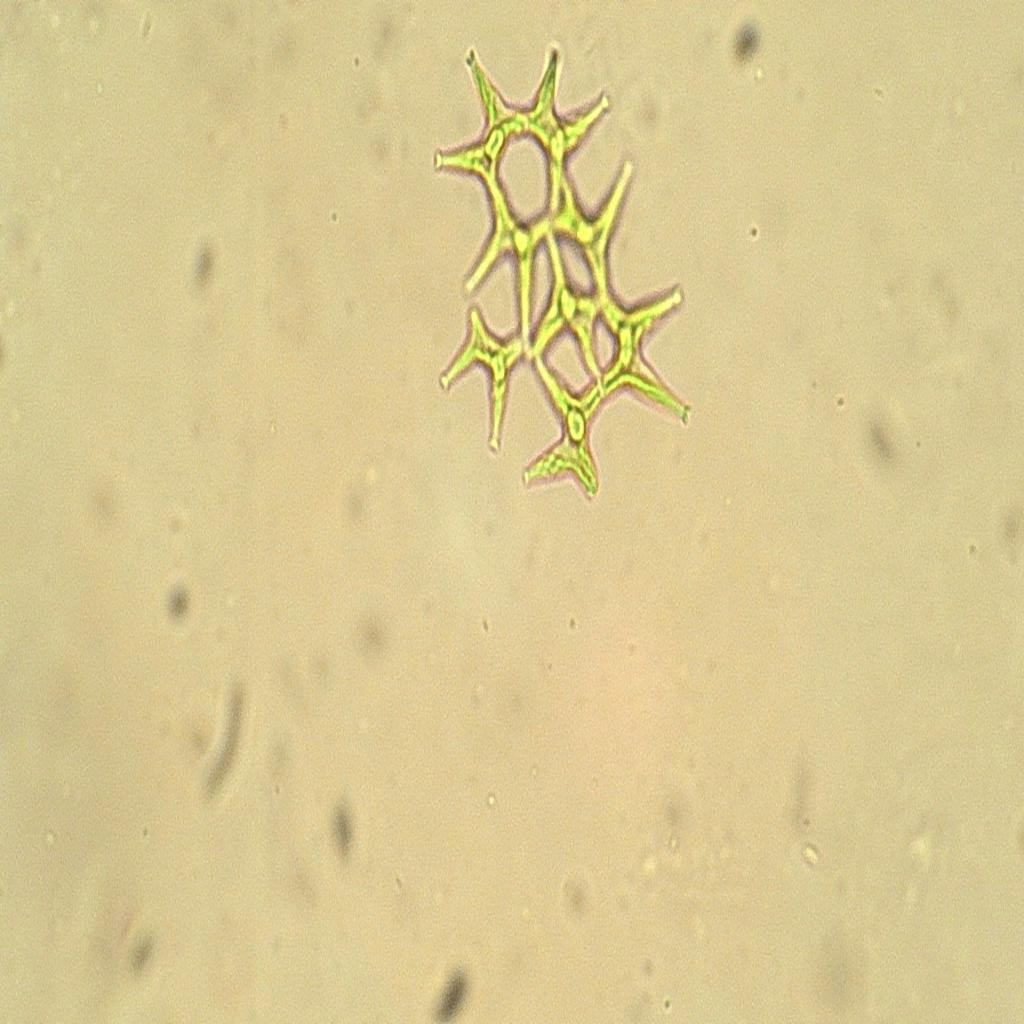Pediastrum_1TH: (413, 36, 700, 551)
